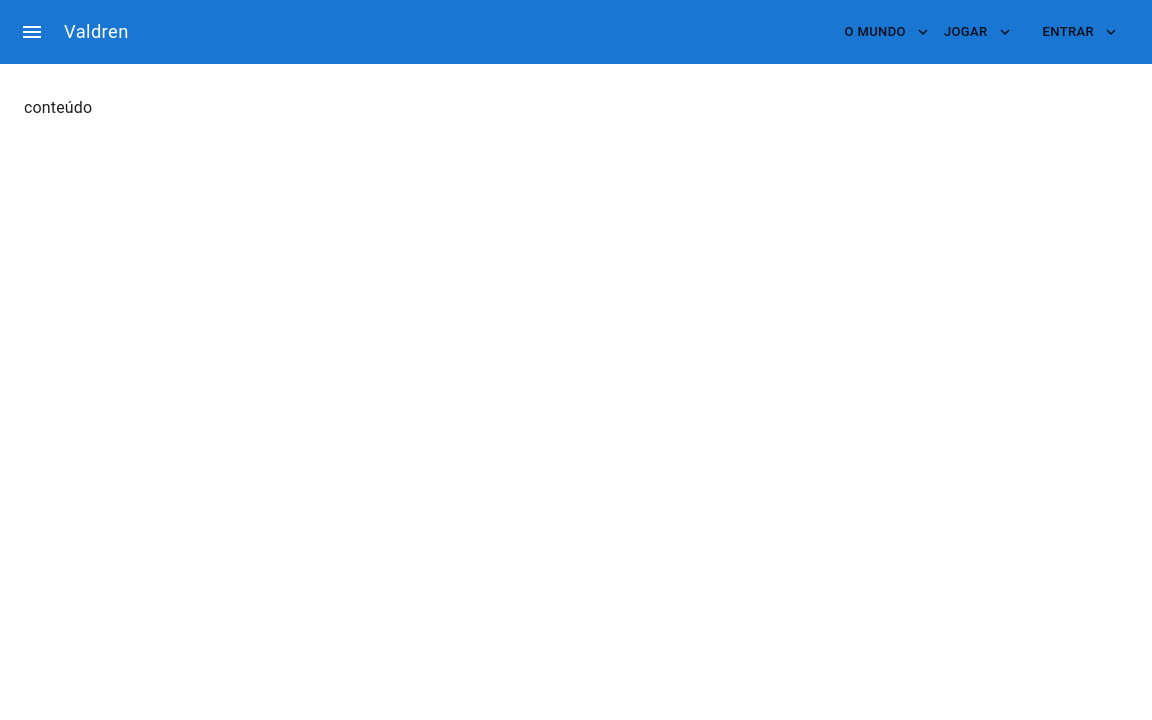
Test: drawer › agrupa a crônica em vez de listar as vinte e três seções soltas
Click the button named "Abrir navegação" at (32, 32), box [12, 12, 52, 52]
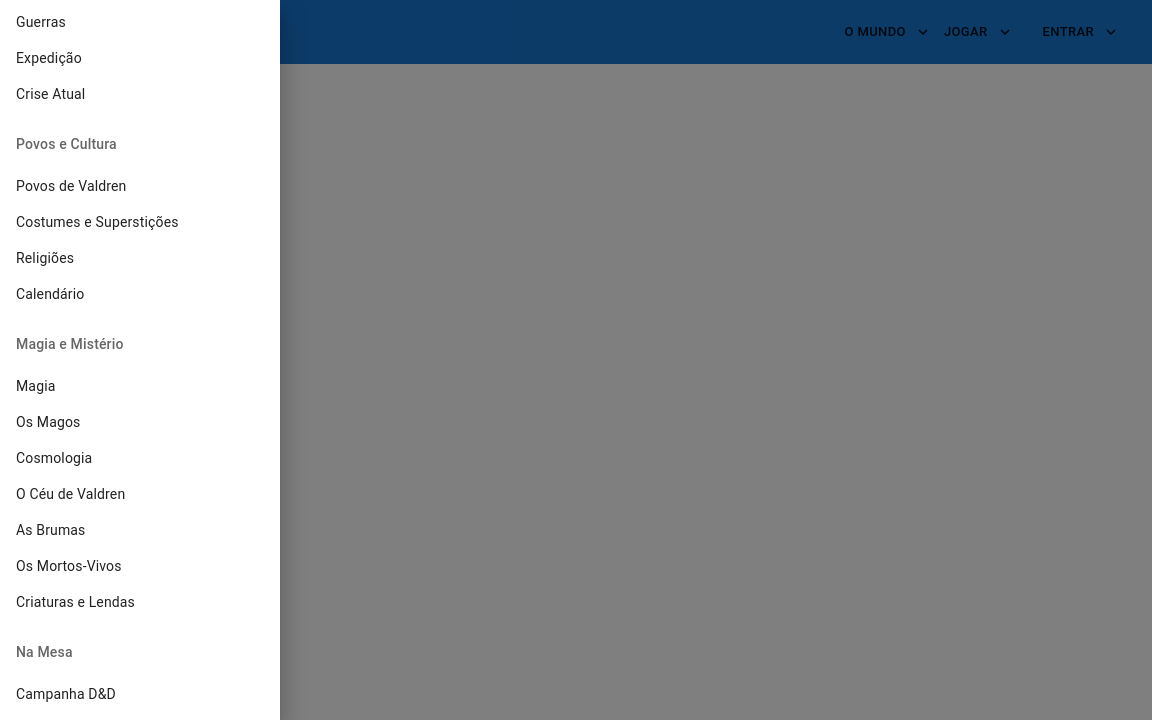
Now the text "Magia e Mistério" is shown, box [16, 336, 124, 352]
Now the text "Na Mesa" is shown, box [16, 644, 73, 660]
